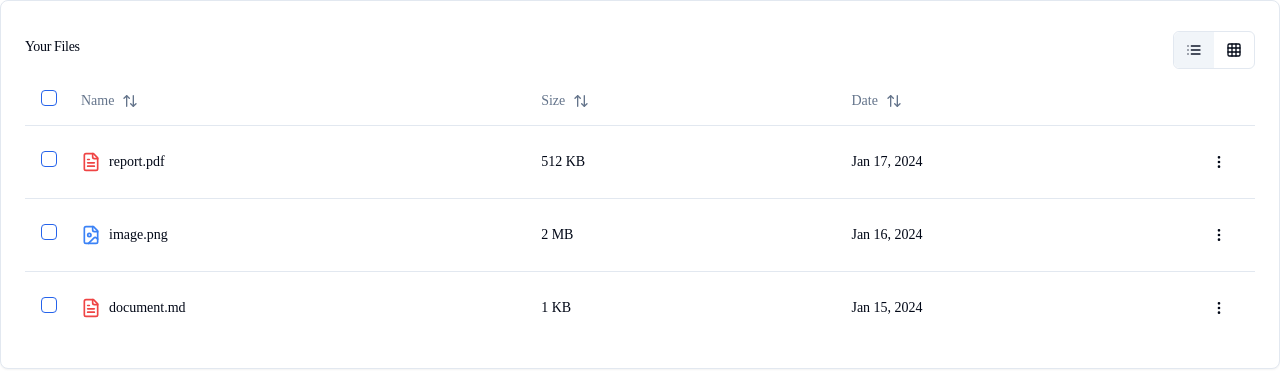
Test: FileList › should show bulk delete button when files selected
Click the checkbox next to "report.pdf" at point(49, 159), box [41, 151, 57, 167]
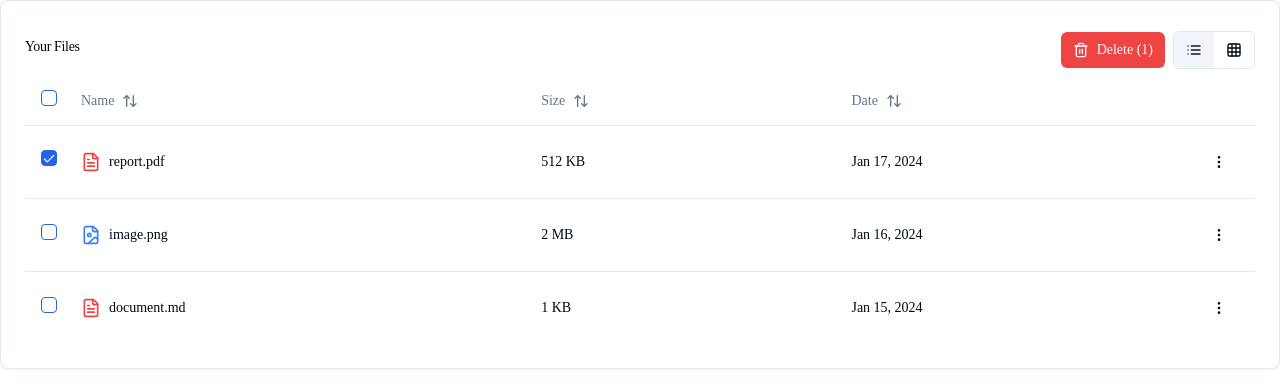
Result: the button "Delete (1)" is shown at [1061, 32, 1165, 68]
